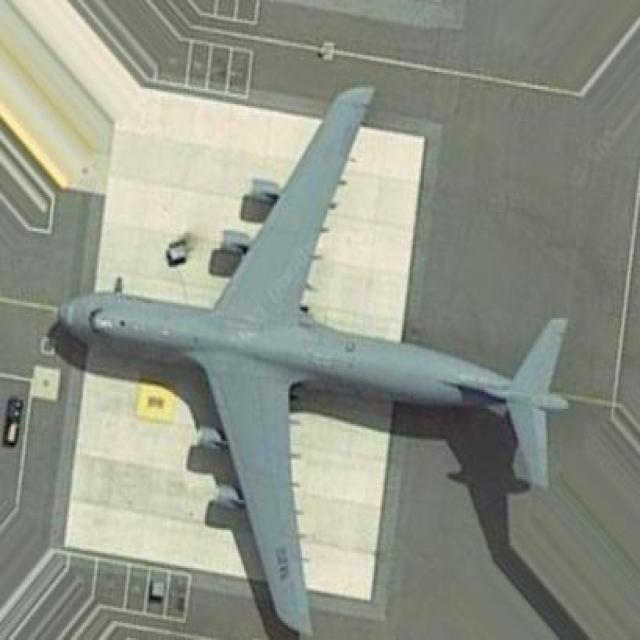C-5_TopDown: (41, 85, 572, 640)
